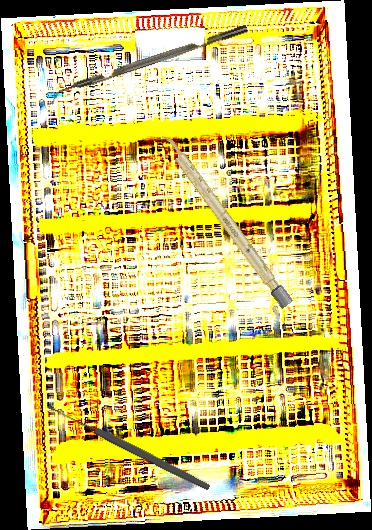Chopper: (46, 24, 252, 107)
Scalpel Handle: (158, 130, 294, 310)
Surgical Spoon: (46, 401, 212, 493)
